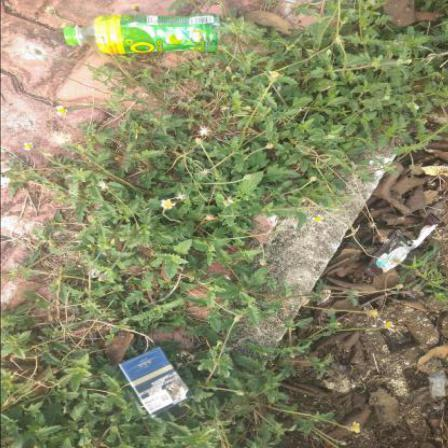Bottle: (64, 14, 222, 56)
Bottle cap: (64, 27, 78, 46)
Carton: (120, 348, 194, 420)
Plastic bag - wrapper: (365, 213, 441, 277), (428, 361, 448, 399), (314, 290, 336, 319)
